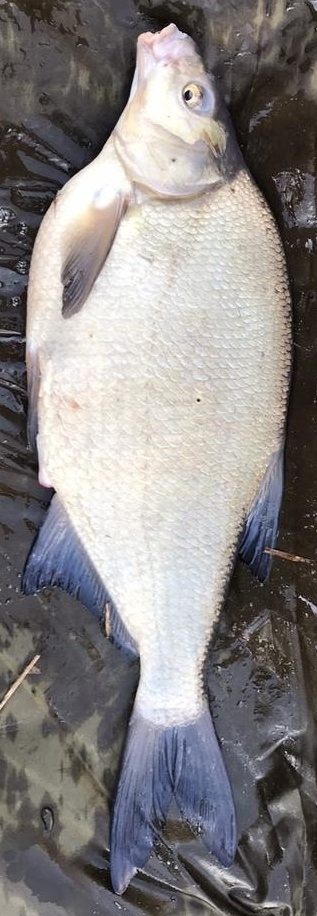Abramis brama: (20, 20, 297, 896)
